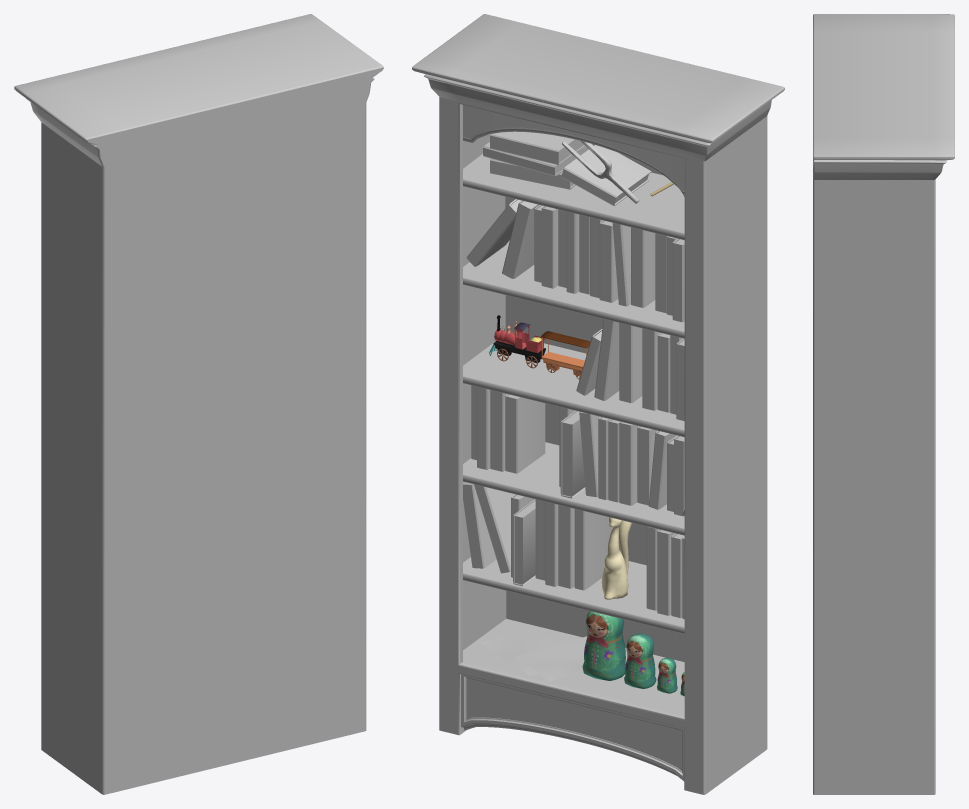
The model's file is repisaa.fbx.
The picture shows the model from 3 angles, left to right: view 1: azimuth 30°, elevation 25°; view 2: azimuth 150°, elevation 25°; view 3: azimuth 270°, elevation 25°; orthographic projection. The views are drawn at different scales.
Visible parts, largest first — view 1: Old_Dusty_Bookshelf; view 2: Old_Dusty_Bookshelf, matr, Plane.001, Cat_low, Diapason; view 3: Old_Dusty_Bookshelf.
Part boxes in pixels (x1=…): Old_Dusty_Bookshelf: x1=14, y1=14, x2=383, y2=794; Old_Dusty_Bookshelf: x1=412, y1=14, x2=784, y2=794; matr: x1=582, y1=611, x2=684, y2=696; Plane.001: x1=489, y1=315, x2=590, y2=379; Cat_low: x1=601, y1=517, x2=632, y2=599; Diapason: x1=562, y1=141, x2=639, y2=203; Old_Dusty_Bookshelf: x1=813, y1=14, x2=954, y2=794.
Bounding box in the file's own units: 97.72 × 207 × 41.06.
